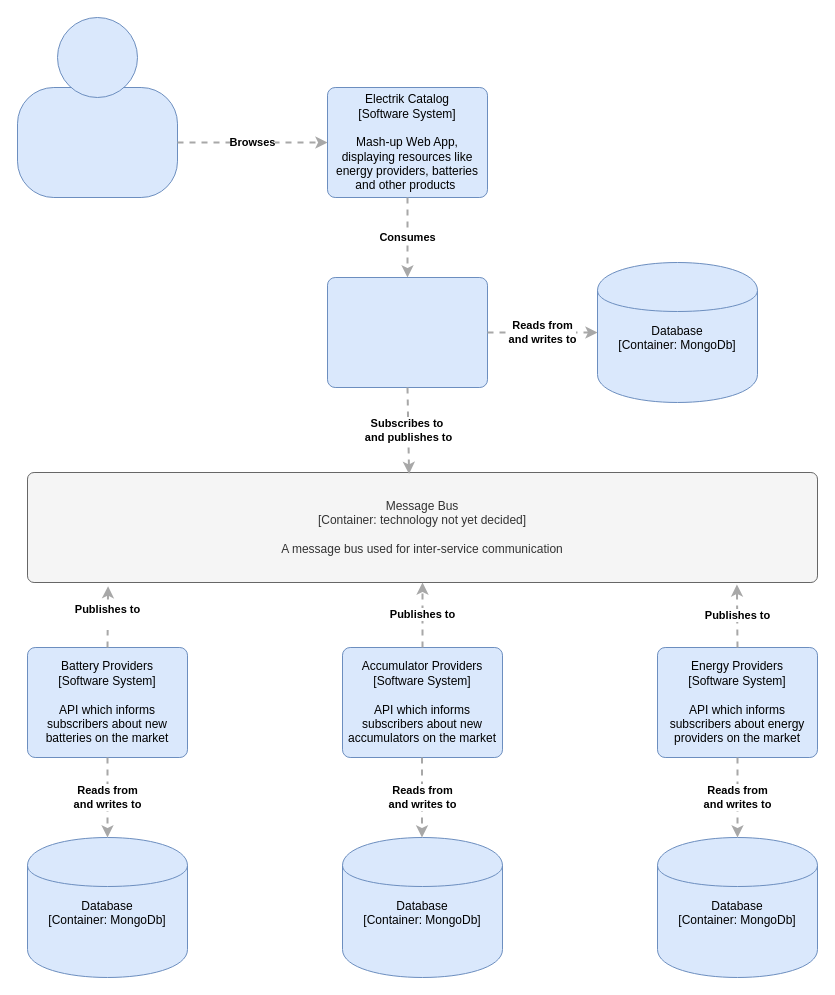
Image size: 835x995. Some labels were removed from this diagram. The centre of each missing label's shape, as x and y in pixels:
Customer [Person]: point 97,142
Electrik API [Software System] NodeJS API which serves resources metadata: point 407,332
